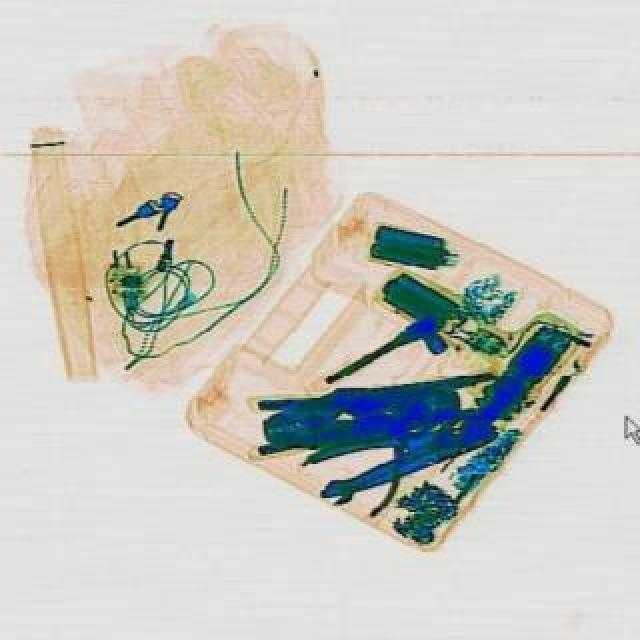scissors: (320, 442, 424, 506)
wrench: (294, 394, 500, 502), (248, 374, 462, 460), (256, 380, 426, 456)
